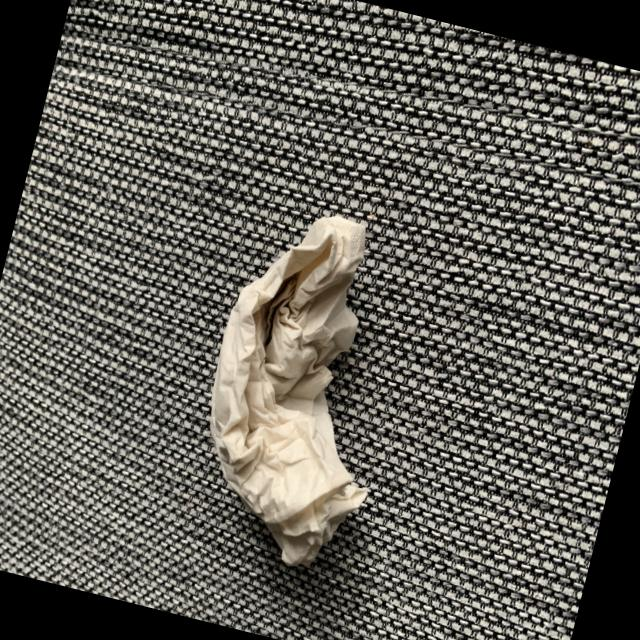organic waste: (169, 188, 432, 578)
